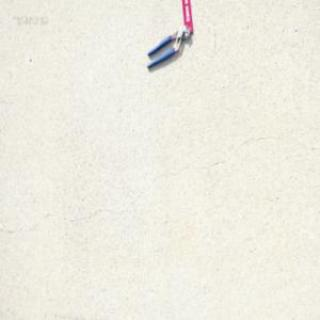LuggageTagtrack_idkeyframe: (181, 0, 192, 33)
Pliertrack_idkeyframe: (145, 23, 190, 69)
